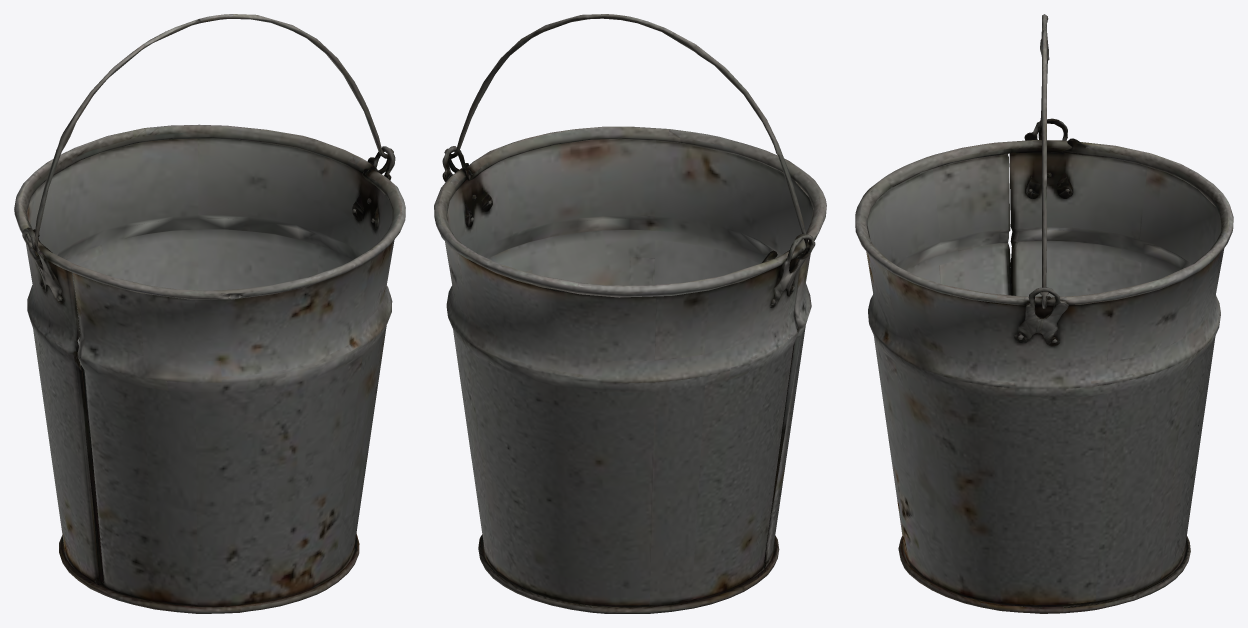
File: prop_bucket.glb
3 renders of one model, left to right at view 1: azimuth 30°, elevation 25°; view 2: azimuth 150°, elevation 25°; view 3: azimuth 270°, elevation 25°, orthographic. The views are drawn at different scales.
Visible parts, largest first — view 1: tripo_node_7f2fa8e9-2c38-4dff-b010-fada9746c338; view 2: tripo_node_7f2fa8e9-2c38-4dff-b010-fada9746c338; view 3: tripo_node_7f2fa8e9-2c38-4dff-b010-fada9746c338.
Boxes of the visible parts, <box> form: tripo_node_7f2fa8e9-2c38-4dff-b010-fada9746c338: <box>14,14,405,613</box>; tripo_node_7f2fa8e9-2c38-4dff-b010-fada9746c338: <box>434,14,826,613</box>; tripo_node_7f2fa8e9-2c38-4dff-b010-fada9746c338: <box>855,14,1233,613</box>.
Size of the model in its own units: 0.2501 by 0.35 by 0.231.
Materials: 1 (1 with a texture image).
